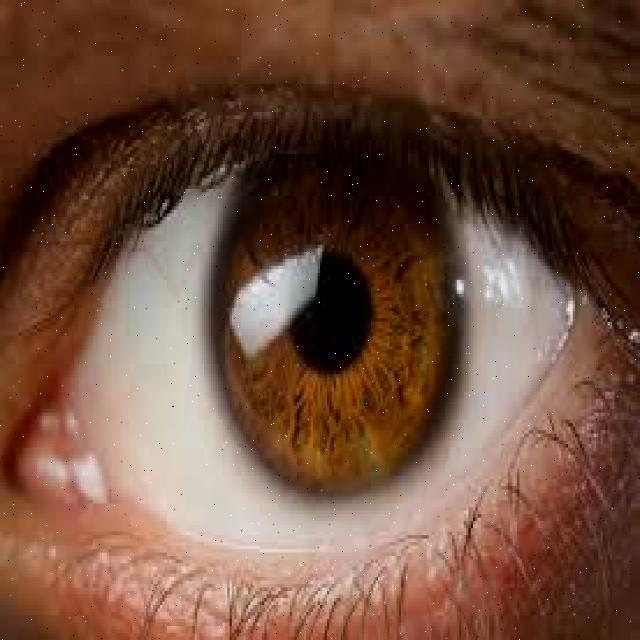Normal: (0, 76, 638, 636)
